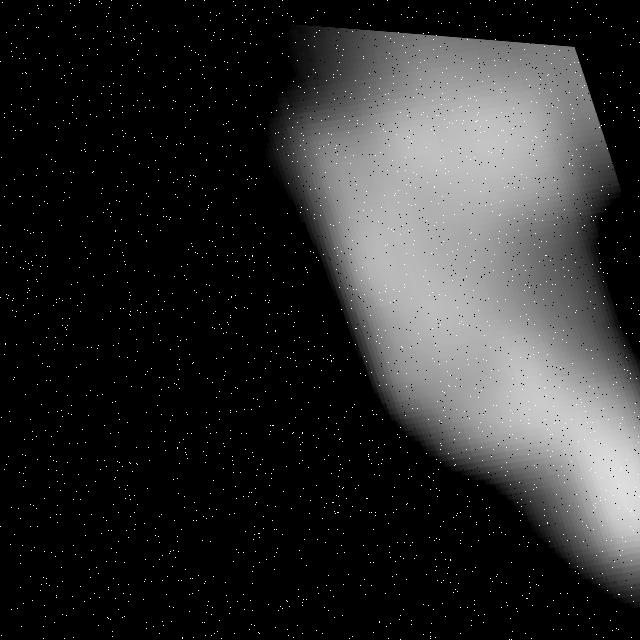person: (236, 16, 640, 640)
